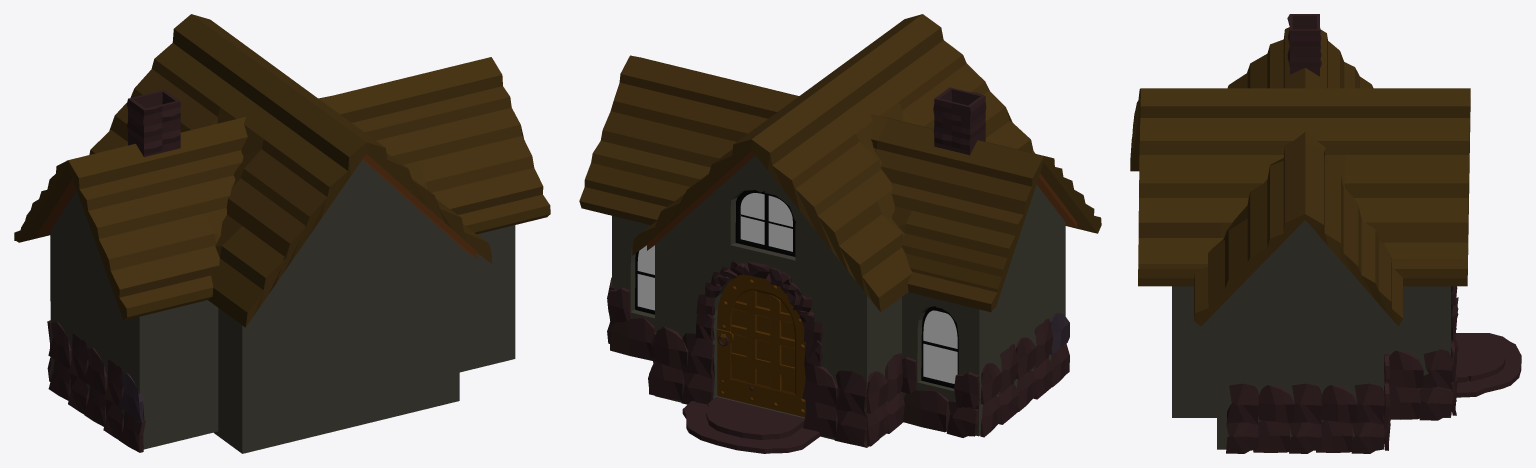
File: House.fbx
3 views of the same model, side by side, from view 1: azimuth 30°, elevation 25°; view 2: azimuth 150°, elevation 25°; view 3: azimuth 270°, elevation 25° (orthographic). The views are drawn at different scales.
Parts seen in each view (by area): view 1: Cube.008, Cube, Cube.001, Cube.002, Cube.007, Cube.052, Cube.044, Cube.049, Cube.054, Cube.042, Cube.050, Cube.046 (+3 smaller); view 2: Cube.008, Cube, Cube.001, Cube.003, Cube.004, Cube.002, Cube.068, Cube.005, Cube.069, Cube.028, Cube.014, Cube.007 (+27 smaller); view 3: Cube.008, Cube.001, Cube, Cube.068, Cube.002, Cube.069, Cube.039, Cube.034, Cube.041, Cube.026, Cube.033, Cube.040 (+8 smaller).
Part boxes in pixels (box(x1,y1,x2,y2)): Cube.008: box(14, 14, 550, 327); Cube: box(214, 160, 459, 453); Cube.001: box(50, 190, 515, 449); Cube.002: box(127, 90, 180, 156); Cube.007: box(39, 154, 476, 258); Cube.052: box(118, 373, 144, 423); Cube.044: box(48, 321, 71, 369); Cube.049: box(84, 347, 106, 395); Cube.054: box(119, 411, 145, 452); Cube.042: box(69, 333, 88, 383); Cube.050: box(104, 359, 123, 409); Cube.046: box(48, 360, 70, 400); Cube.008: box(579, 14, 1101, 312); Cube: box(655, 155, 901, 447); Cube.001: box(612, 184, 1065, 436); Cube.003: box(716, 274, 805, 417); Cube.004: box(735, 190, 795, 256); Cube.002: box(749, 87, 986, 390); Cube.068: box(706, 396, 804, 440); Cube.005: box(921, 306, 958, 388); Cube.069: box(682, 401, 820, 453); Cube.028: box(903, 390, 949, 432); Cube.014: box(610, 316, 654, 360); Cube.007: box(647, 151, 1077, 250); Cube.008: box(1130, 27, 1470, 326); Cube.001: box(1217, 220, 1383, 449); Cube: box(1172, 286, 1450, 417); Cube.068: box(1455, 335, 1505, 382); Cube.002: box(1287, 14, 1321, 76); Cube.069: box(1455, 333, 1521, 397); Cube.039: box(1258, 385, 1295, 423); Cube.034: box(1321, 385, 1357, 423); Cube.041: box(1227, 383, 1259, 424); Cube.026: box(1389, 350, 1423, 388); Cube.033: box(1353, 383, 1384, 424); Cube.040: box(1290, 383, 1322, 424).
Size of the model in its own units: 3442 by 2377 by 2922.
7 materials, 1 textured.
